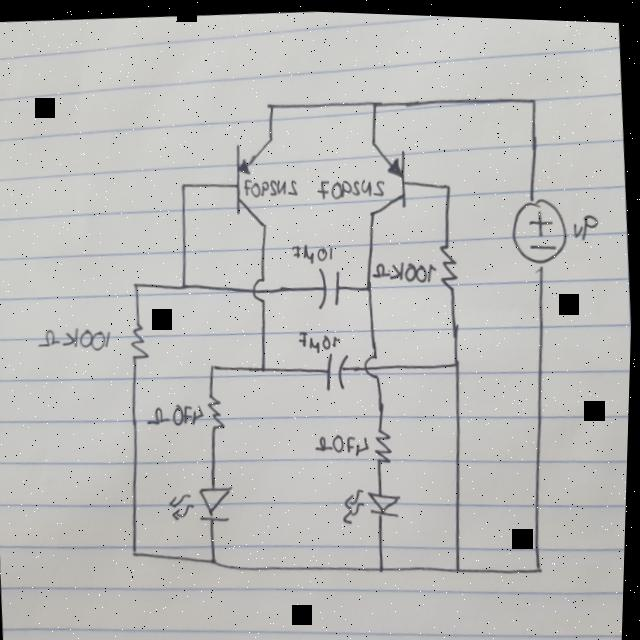capacitor: (323, 348, 353, 390), (317, 262, 345, 306)
crossover: (252, 273, 270, 305), (365, 349, 384, 378)
diode: (168, 478, 240, 527), (341, 481, 407, 526)
junction: (133, 540, 149, 559), (264, 97, 279, 114), (210, 551, 223, 569), (442, 176, 456, 191), (527, 90, 539, 106), (209, 360, 222, 373), (364, 280, 376, 293), (453, 353, 465, 366), (536, 558, 547, 572), (133, 276, 143, 291), (180, 277, 191, 290), (380, 559, 390, 573), (457, 559, 467, 572), (262, 360, 272, 372), (181, 179, 190, 192), (370, 95, 379, 108)
resistor: (436, 234, 462, 290), (128, 315, 154, 365), (207, 387, 231, 435), (374, 421, 396, 465)
source: (509, 191, 571, 262)
text: (37, 321, 114, 354), (317, 170, 387, 201), (148, 397, 209, 429), (376, 256, 440, 284), (317, 426, 373, 456), (296, 324, 345, 353), (245, 173, 300, 198), (290, 238, 337, 266), (572, 205, 603, 241)
transistor: (227, 132, 285, 232), (364, 137, 411, 214)
